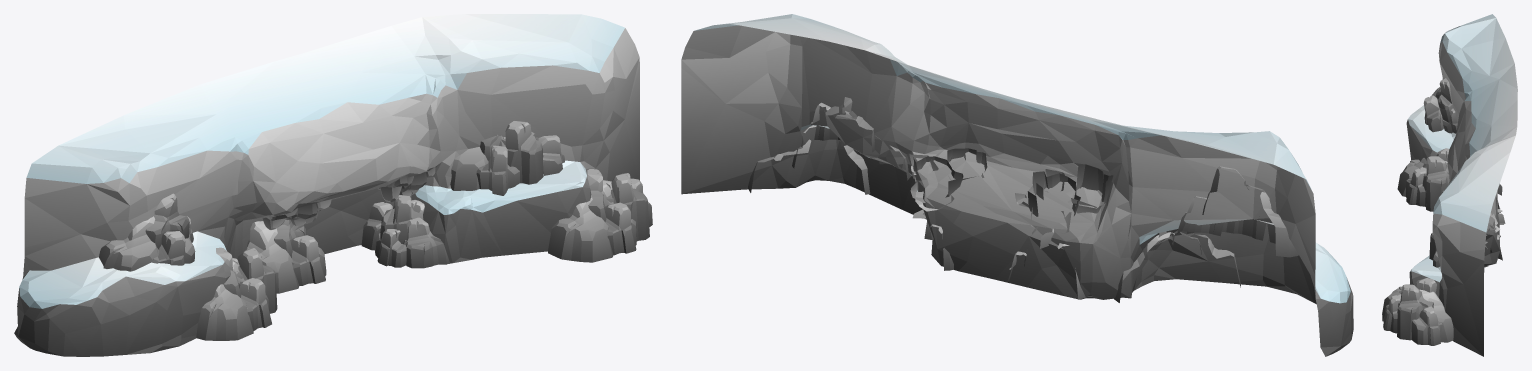
The model's file is Cliff_2.FBX.
3 renders of one model, left to right at view 1: azimuth 30°, elevation 25°; view 2: azimuth 150°, elevation 25°; view 3: azimuth 270°, elevation 25°, orthographic. The views are drawn at different scales.
Visible parts, largest first — view 1: Cliff_2, RockFormation_6, RockFormation_5, RockFormation_2, RockFormation_4, RockFormation_1, RockFormation_3, RockFormation9, RockFormation11; view 2: Cliff_2, RockFormation_1, RockFormation9, RockFormation11, RockFormation_5, RockFormation_2, RockFormation_6; view 3: Cliff_2, RockFormation_6, RockFormation_2, RockFormation_1, RockFormation_5, RockFormation_3.
Part boxes in pixels (left/top/right/bottom): Cliff_2: left=14, top=14, right=639, bottom=356; RockFormation_6: left=548, top=169, right=652, bottom=262; RockFormation_5: left=450, top=121, right=565, bottom=195; RockFormation_2: left=196, top=247, right=277, bottom=340; RockFormation_4: left=361, top=195, right=449, bottom=268; RockFormation_1: left=99, top=193, right=195, bottom=271; RockFormation_3: left=244, top=219, right=326, bottom=293; RockFormation9: left=262, top=199, right=331, bottom=229; RockFormation11: left=377, top=167, right=435, bottom=202; Cliff_2: left=681, top=14, right=1353, bottom=356; RockFormation_1: left=1177, top=166, right=1298, bottom=257; RockFormation9: left=1015, top=164, right=1113, bottom=233; RockFormation11: left=909, top=148, right=987, bottom=211; RockFormation_5: left=811, top=97, right=911, bottom=180; RockFormation_2: left=1113, top=230, right=1240, bottom=302; RockFormation_6: left=748, top=125, right=870, bottom=194; Cliff_2: left=1406, top=14, right=1517, bottom=356; RockFormation_6: left=1382, top=278, right=1453, bottom=345; RockFormation_2: left=1397, top=148, right=1449, bottom=211; RockFormation_1: left=1423, top=78, right=1457, bottom=133; RockFormation_5: left=1429, top=232, right=1439, bottom=267; RockFormation_3: left=1496, top=184, right=1505, bottom=224.
Size of the model in its own units: 145 by 44.59 by 36.53.
